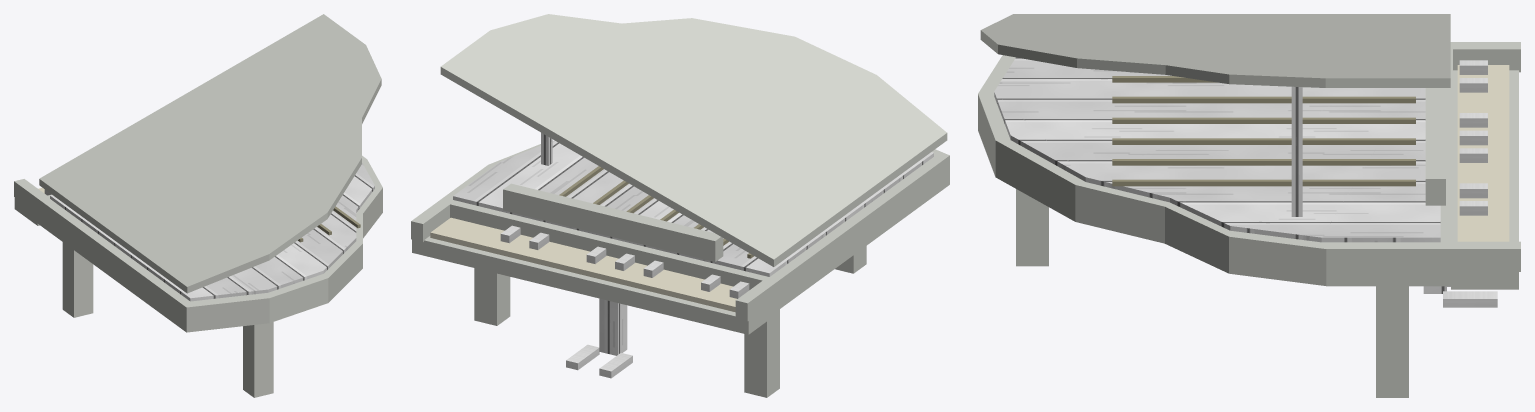
The model's file is piano.obj.
The picture shows the model from 3 angles, left to right: view 1: azimuth 30°, elevation 25°; view 2: azimuth 150°, elevation 25°; view 3: azimuth 270°, elevation 25°; orthographic projection. The views are drawn at different scales.
Parts seen in each view (by area): view 1: piano; view 2: piano; view 3: piano.
Part boxes in pixels (x1,y1,x2,y2): piano: (14,14,382,397); piano: (411,14,949,397); piano: (978,14,1520,397).
Bounding box in the file's own units: 2.52 × 1.87 × 2.79.
